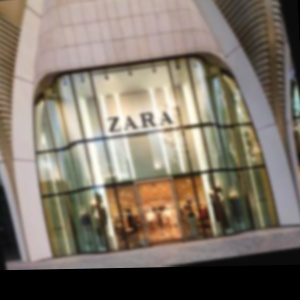zara: (108, 44, 242, 173)
